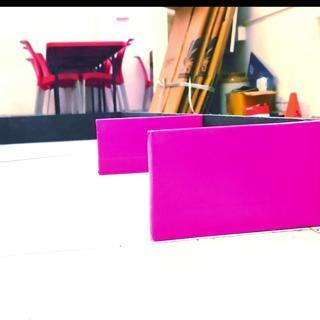xparking: (150, 133, 320, 239), (99, 118, 146, 176)
